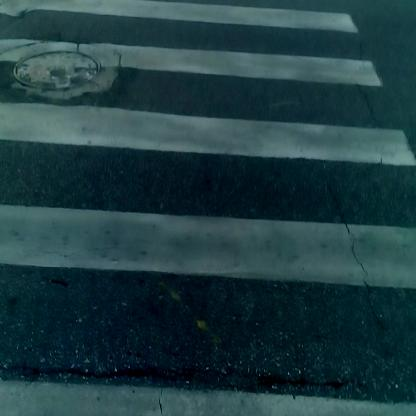crosswalk: (3, 8, 405, 394)
